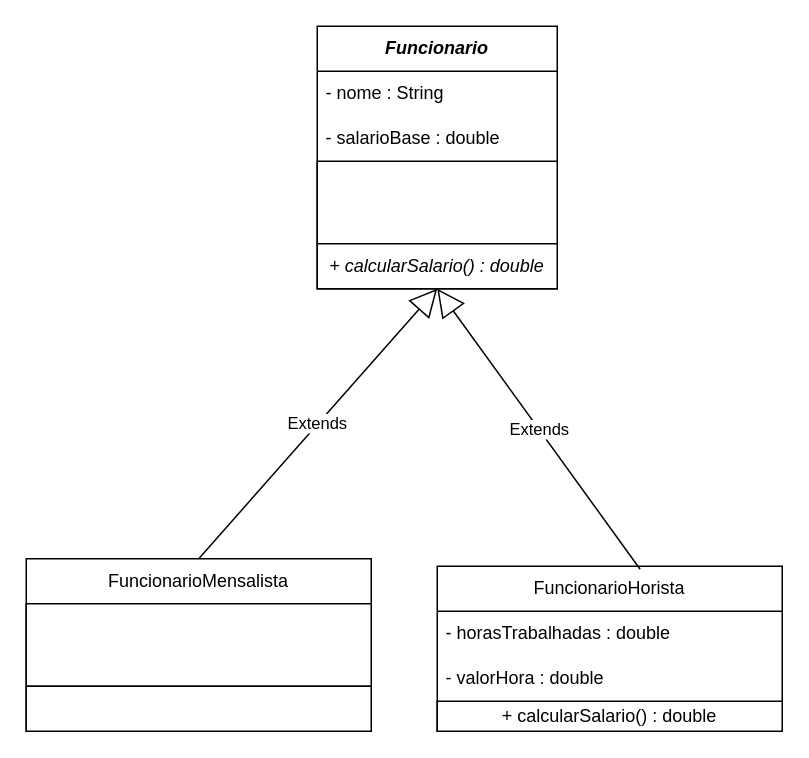
Image size: 809x758. Some labels were removed from this diagram. Here are the shapes that lost their labels. From the top down, the centre of each, then its label:
(436,202): + Funcionario(nome: String, salarioBase: double)
(198,644): + FuncionarioMensalista(nome: String, salarioBase: double)
(198,708): + calcularSalario(): double
